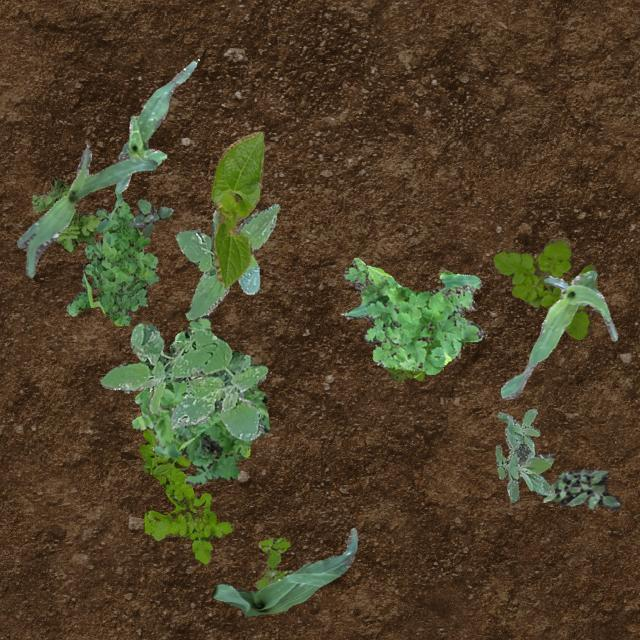crop: (15, 144, 156, 276), (499, 270, 616, 398), (212, 526, 356, 614), (114, 61, 196, 192), (210, 130, 262, 288)
weed: (100, 322, 266, 440), (342, 256, 482, 374), (130, 314, 242, 456), (66, 188, 158, 324), (174, 202, 280, 320), (138, 427, 230, 562), (492, 236, 596, 338), (178, 374, 268, 484), (494, 408, 554, 502), (31, 176, 98, 252), (542, 466, 622, 509), (255, 536, 292, 588), (128, 198, 172, 238), (381, 364, 424, 381)
